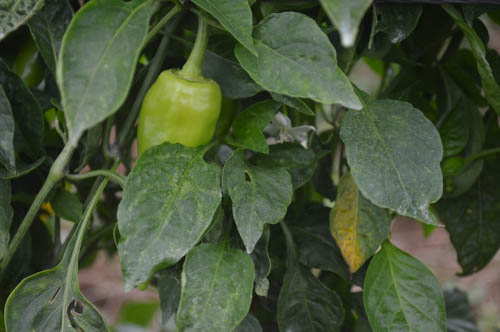ChiliPepper: (136, 70, 223, 197)
